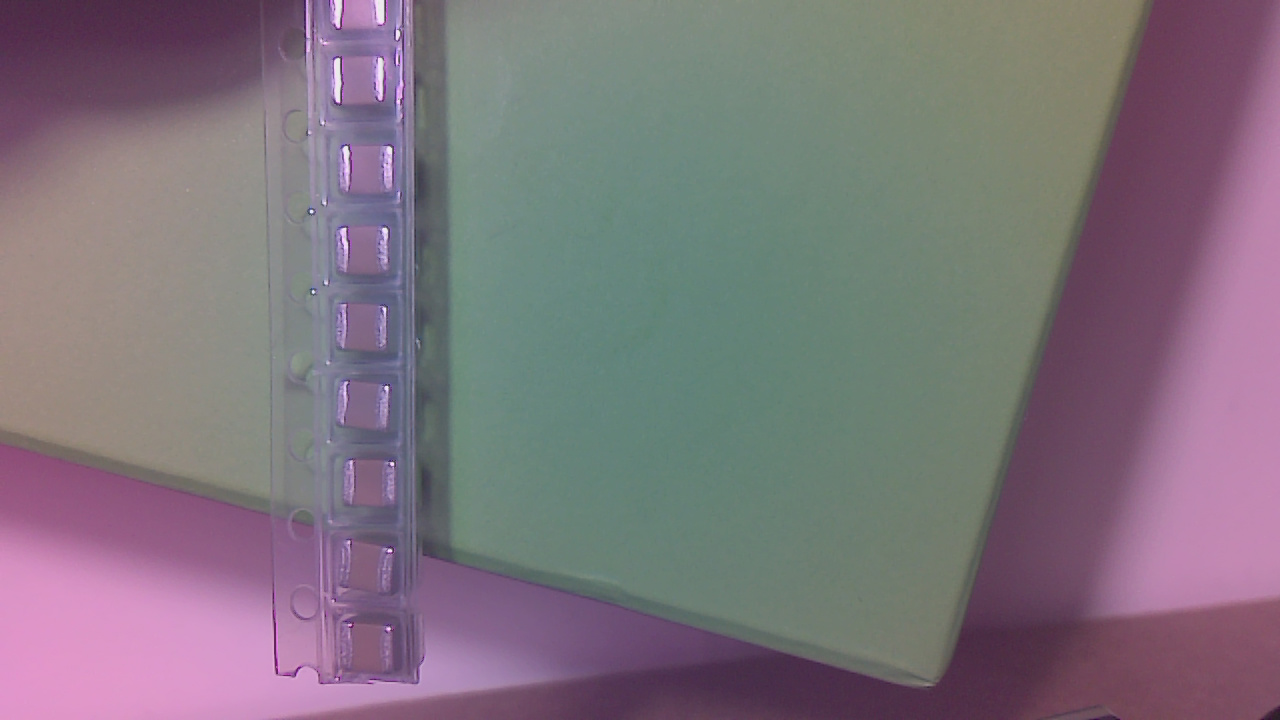Condensator: (338, 306, 407, 366), (330, 56, 397, 115), (339, 542, 401, 597), (337, 230, 398, 285), (337, 387, 403, 436), (339, 149, 405, 197), (343, 622, 397, 680), (345, 462, 399, 512)
